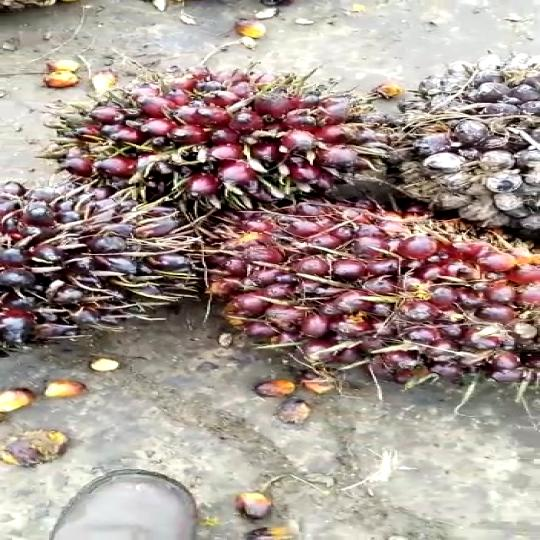kurang masak: (172, 199, 540, 396), (47, 66, 387, 204), (0, 171, 193, 331), (387, 63, 540, 202)
